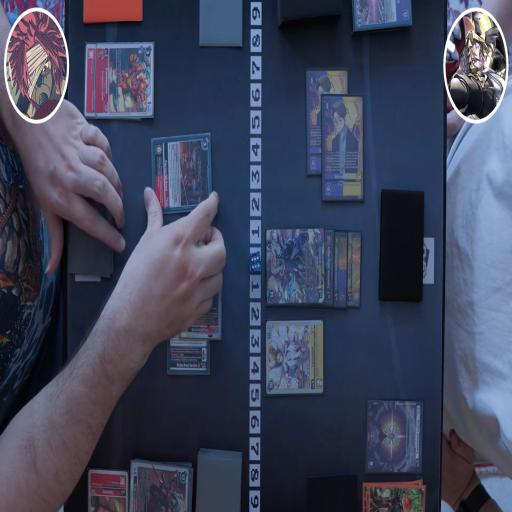card: (149, 131, 213, 224), (267, 222, 327, 308), (93, 39, 155, 122), (305, 68, 350, 174), (263, 320, 324, 398), (322, 96, 365, 203), (367, 398, 424, 477), (131, 457, 191, 512), (179, 274, 225, 340), (165, 323, 211, 379), (353, 0, 410, 39), (86, 465, 128, 512), (348, 230, 364, 315), (83, 44, 100, 120), (333, 230, 348, 310), (325, 226, 334, 313)
